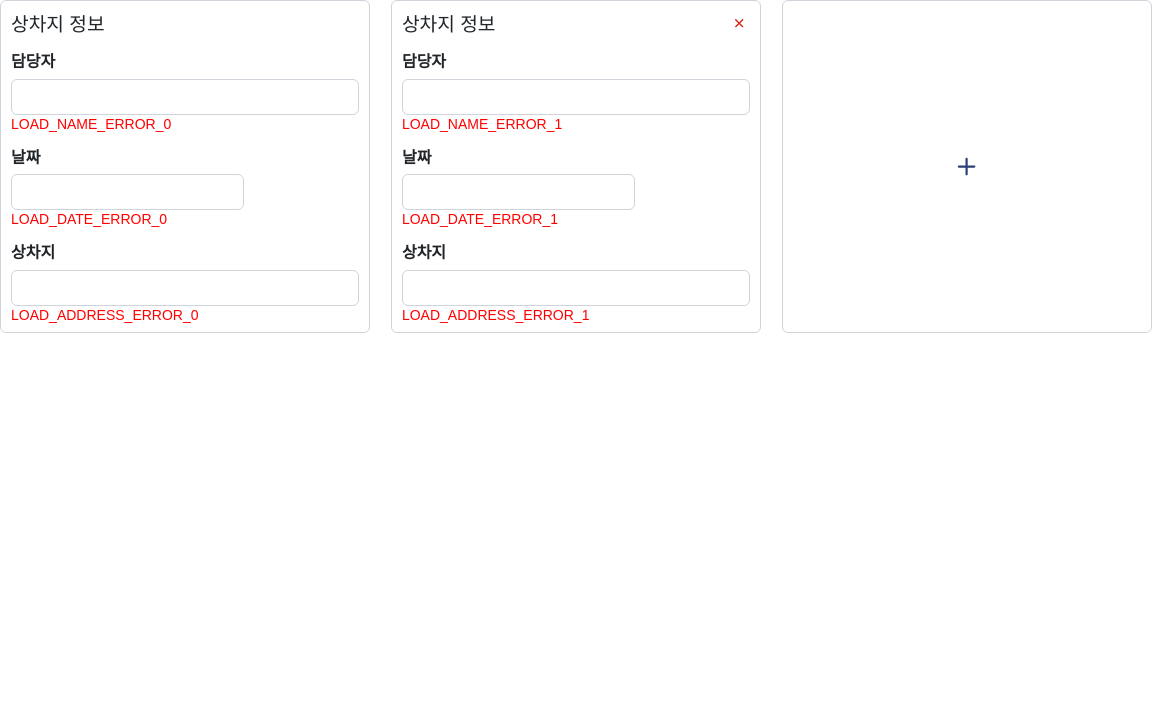
Test: src/layout/form/LoadForm › test address click event handling
This screenshot has width=1152, height=720.
Step 1. Click the 2nd field with test id "loadform-address-input" → click(576, 288), box [402, 270, 750, 306]
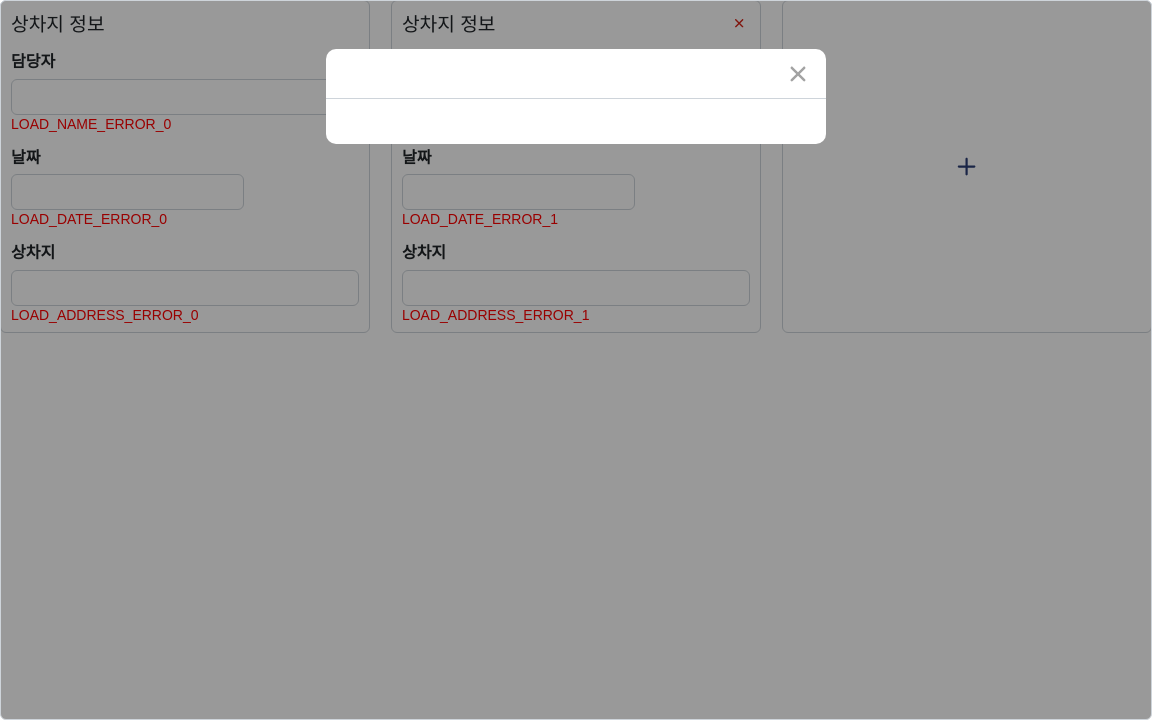
Check: the element with test id "loadform-address-modal" is shown
Check: the icon with test id "click-close-modal" is shown
Step 2. Click the icon with test id "click-close-modal" → click(798, 74), box [778, 54, 818, 94]
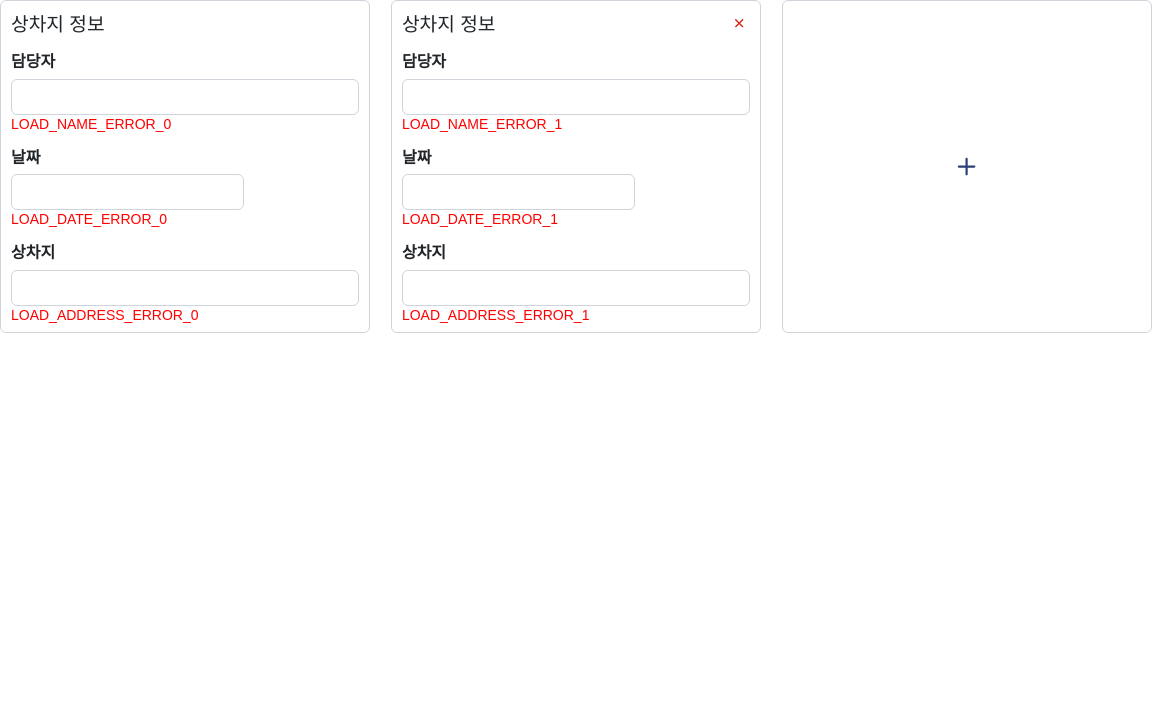
Check: the element with test id "loadform-address-modal" is gone
